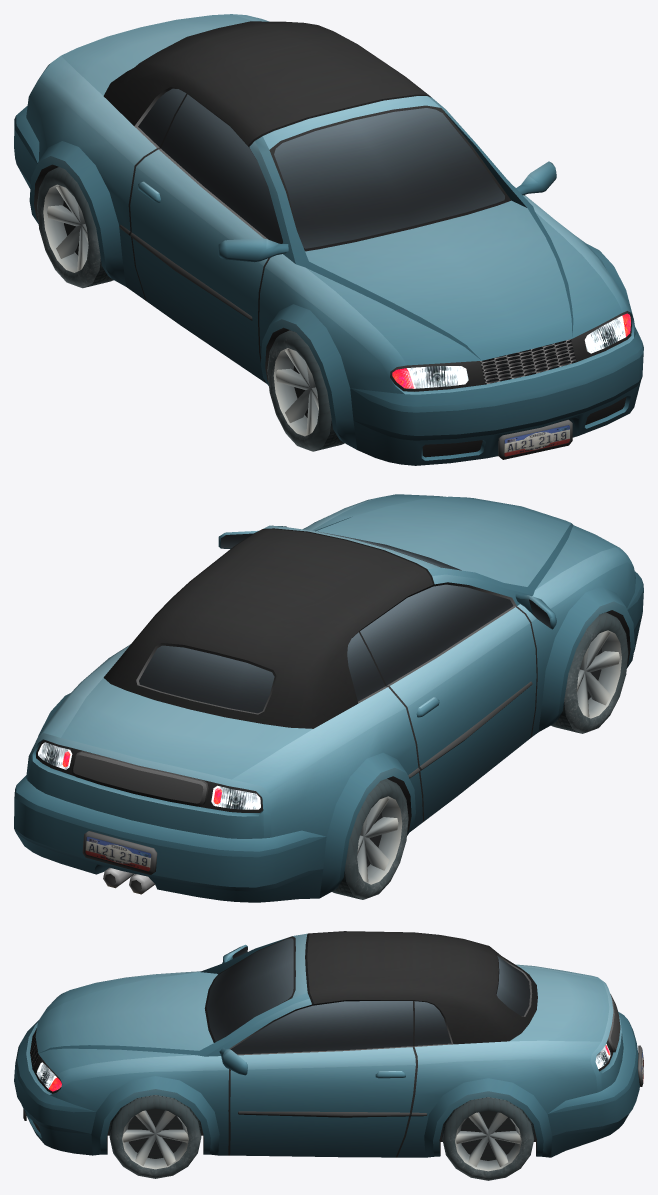
The model's file is VHC0110006.FBX.
The picture shows the model from 3 angles, top to bottom: view 1: azimuth 30°, elevation 25°; view 2: azimuth 150°, elevation 25°; view 3: azimuth 270°, elevation 25°; orthographic projection. The views are drawn at different scales.
Parts seen in each view (by area): view 1: smVHC0110006; view 2: smVHC0110006; view 3: smVHC0110006.
Part boxes in pixels (x1=…): smVHC0110006: x1=14, y1=14, x2=643, y2=465; smVHC0110006: x1=14, y1=494, x2=643, y2=902; smVHC0110006: x1=14, y1=931, x2=643, y2=1180.
Size of the model in its own units: 1.68 by 1.11 by 3.67.
Materials: 1 (1 with a texture image).
